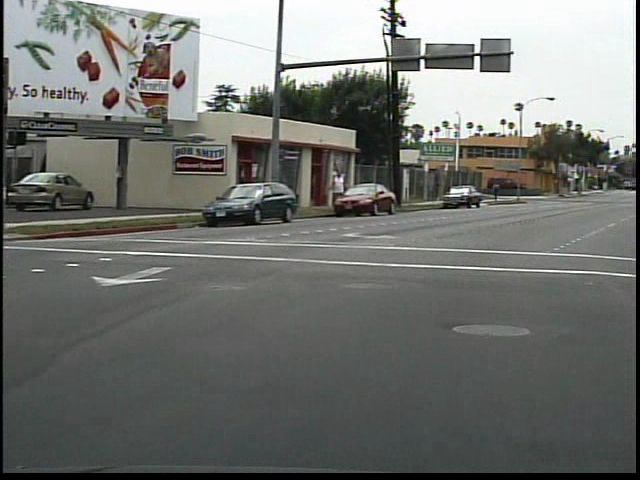person: (332, 163, 355, 212), (494, 177, 506, 205)
